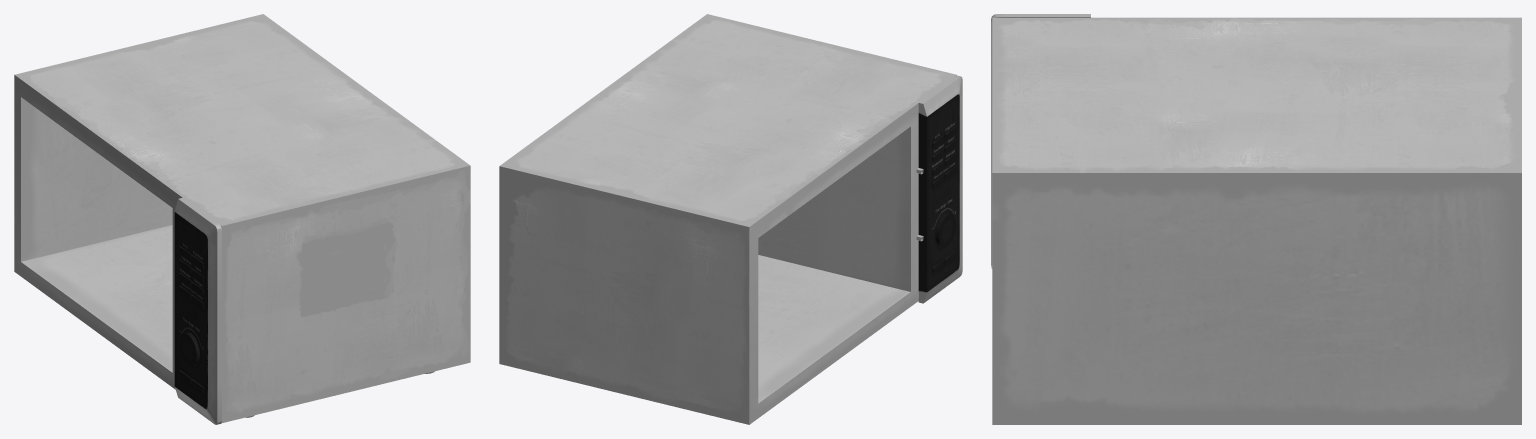
Rendered from SM_Microwave_A1.fbx.
3 renders of one model, left to right at view 1: azimuth 30°, elevation 25°; view 2: azimuth 150°, elevation 25°; view 3: azimuth 270°, elevation 25°, orthographic. The views are drawn at different scales.
Visible parts, largest first — view 1: SM_Microwave_A1; view 2: SM_Microwave_A1; view 3: SM_Microwave_A1.
Part boxes in pixels (x1,y1,x2,y2): SM_Microwave_A1: (14, 14, 470, 424); SM_Microwave_A1: (499, 14, 962, 424); SM_Microwave_A1: (991, 14, 1521, 424).
Size of the model in its own units: 32.8 by 45.22 by 25.
Materials: 1 (1 with a texture image).
